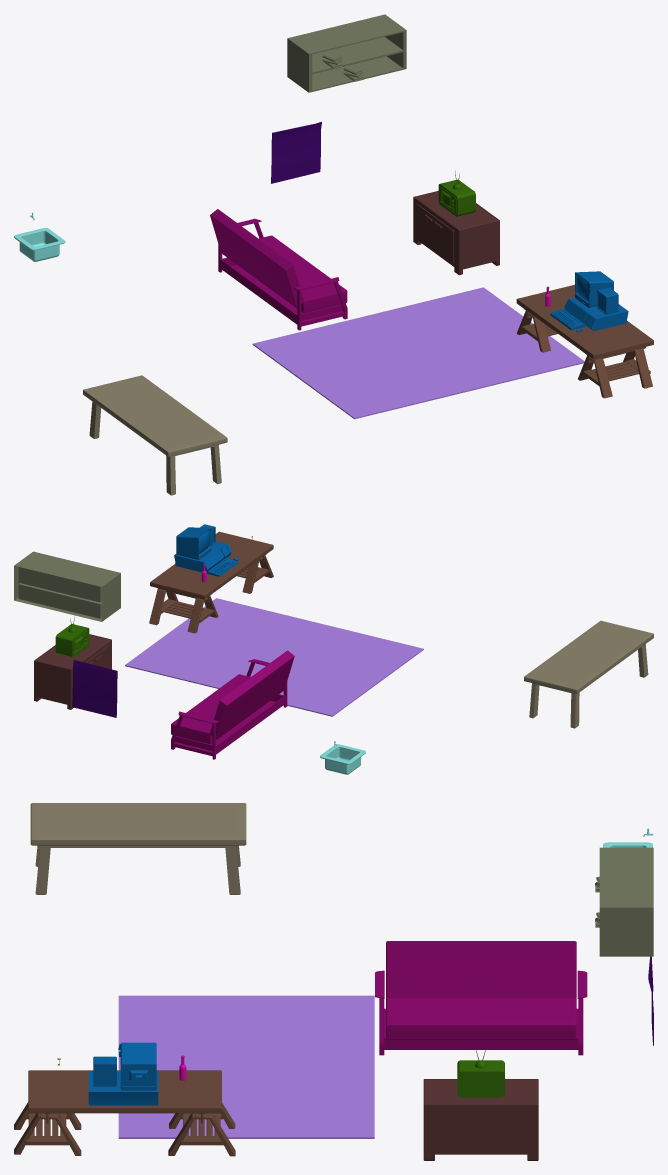
The model's file is livingroom_substance.fbx.
3 renders of one model, top to bottom at view 1: azimuth 30°, elevation 25°; view 2: azimuth 150°, elevation 25°; view 3: azimuth 270°, elevation 25°, orthographic. The views are drawn at different scales.
Parts seen in each view (by area): view 1: kilim1, masa, bookshelve, tqlo (×2), buzglavnica_divan_2, desk:polySurface1116, plakat, buzglavnica_divan_1, dolan_rakla, mivka, osnova_za_pc, monitor; view 2: kilim1, masa, bookshelve, tqlo (×2), buzglavnica_divan_2, desk:polySurface1116, plakat, buzglavnica_divan_1, dolan_rakla, mivka, osnova_za_pc, monitor (+1 smaller); view 3: kilim1, masa, buzglavnica_divan_2, tqlo (×2), buzglavnica_divan_1, desk:polySurface1116, bookshelve, dolan_rakla, monitor, osnova_za_pc, pc.
Part boxes in pixels (left/top/right/bottom): kilim1: left=252, top=287, right=584, bottom=419; masa: left=83, top=375, right=227, bottom=495; bookshelve: left=287, top=14, right=406, bottom=92; tqlo (×2): left=413, top=179, right=499, bottom=275; buzglavnica_divan_2: left=210, top=209, right=303, bottom=307; desk:polySurface1116: left=516, top=284, right=653, bottom=359; plakat: left=271, top=122, right=321, bottom=183; buzglavnica_divan_1: left=259, top=235, right=347, bottom=313; dolan_rakla: left=220, top=257, right=342, bottom=324; mivka: left=14, top=228, right=65, bottom=261; osnova_za_pc: left=564, top=297, right=628, bottom=331; monitor: left=575, top=271, right=613, bottom=307; kilim1: left=125, top=598, right=423, bottom=716; masa: left=524, top=620, right=653, bottom=728; bookshelve: left=14, top=551, right=120, bottom=621; tqlo (×2): left=34, top=624, right=111, bottom=709; buzglavnica_divan_2: left=210, top=650, right=294, bottom=739; desk:polySurface1116: left=150, top=531, right=273, bottom=599; plakat: left=72, top=660, right=117, bottom=717; buzglavnica_divan_1: left=171, top=674, right=250, bottom=744; dolan_rakla: left=175, top=694, right=285, bottom=754; mivka: left=320, top=744, right=365, bottom=774; osnova_za_pc: left=174, top=541, right=231, bottom=572; monitor: left=176, top=527, right=211, bottom=559; kilim1: left=118, top=995, right=374, bottom=1138; masa: left=30, top=803, right=246, bottom=894; buzglavnica_divan_2: left=386, top=941, right=576, bottom=998; tqlo (×2): left=423, top=1060, right=538, bottom=1160; buzglavnica_divan_1: left=386, top=998, right=576, bottom=1039; desk:polySurface1116: left=28, top=1070, right=221, bottom=1113; bookshelve: left=599, top=847, right=653, bottom=956; dolan_rakla: left=384, top=1008, right=578, bottom=1049; monitor: left=120, top=1042, right=156, bottom=1090; osnova_za_pc: left=88, top=1071, right=158, bottom=1105; pc: left=93, top=1056, right=116, bottom=1086.
Bounding box in the file's own units: 995 × 370 × 898.
